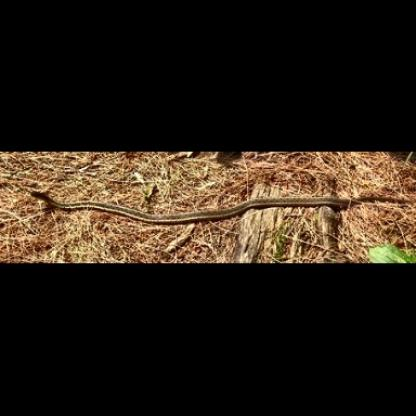Snake: (25, 181, 416, 226)
